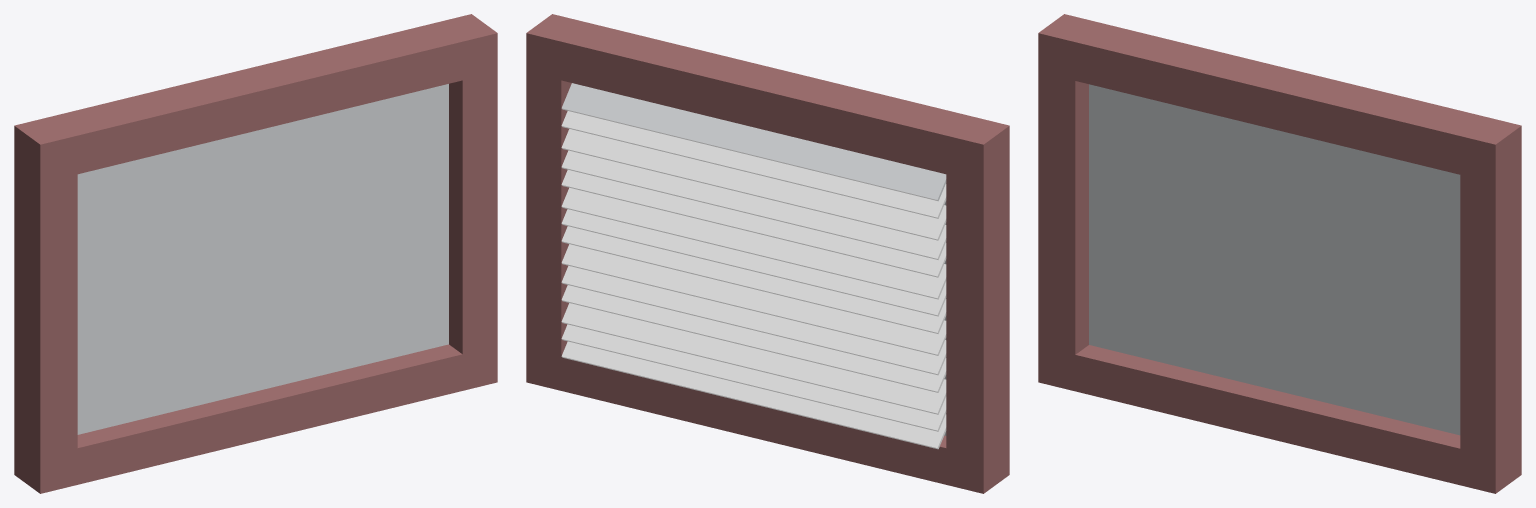
Rendered from Ventana.fbx.
3 renders of one model, left to right at view 1: azimuth 30°, elevation 25°; view 2: azimuth 150°, elevation 25°; view 3: azimuth 330°, elevation 25°, orthographic.
Visible parts, largest first — view 1: Cube.018; view 2: Cube.018; view 3: Cube.018.
Part boxes in pixels (x1,y1,x2,y2): Cube.018: [14, 14, 497, 493]; Cube.018: [526, 14, 1009, 493]; Cube.018: [1038, 14, 1521, 493].
Size of the model in its own units: 677 by 494 by 81.97.
